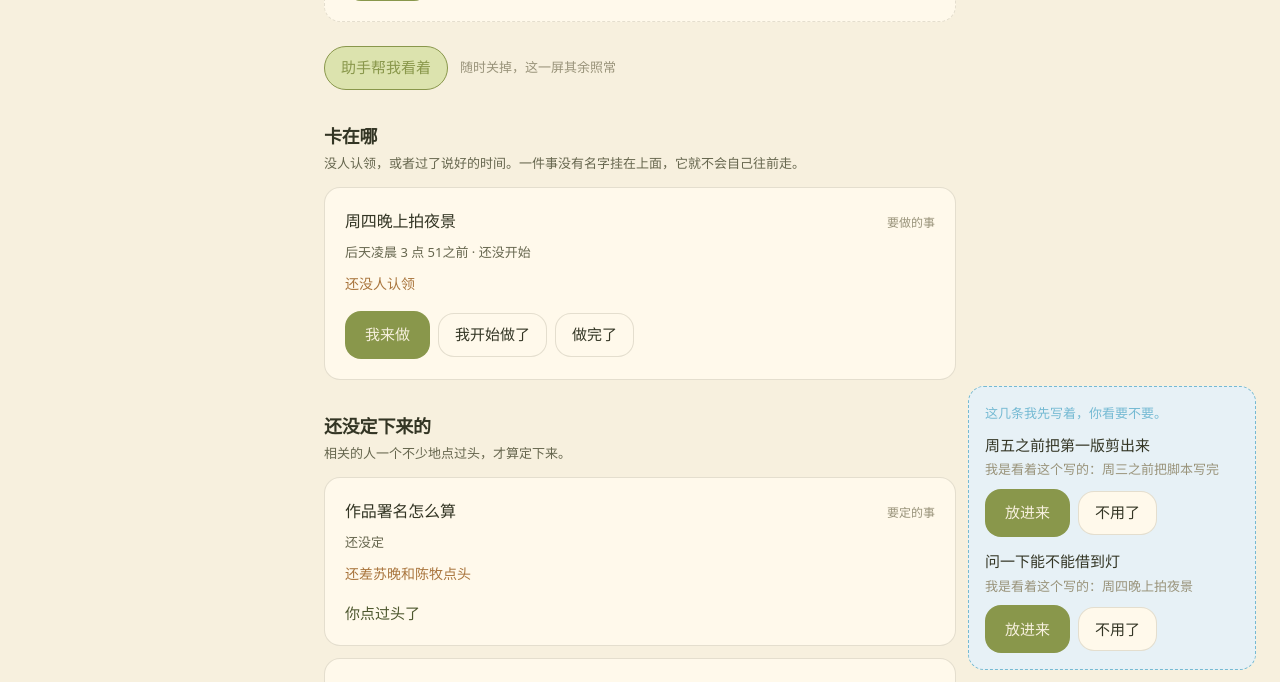
it: 五态 › 错误：一次写入没发出去时，这条还是原样
(page scrolled)
Click the button "我来做": (388,335) [345,311,430,359]
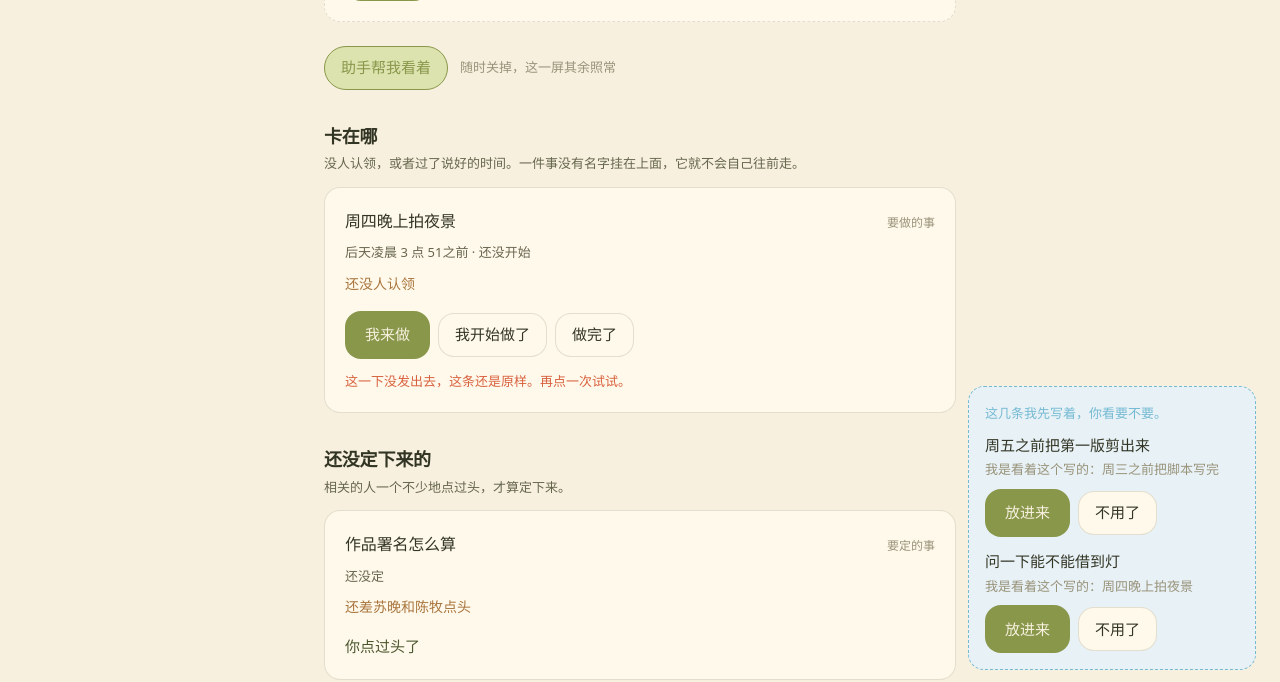
Expected: the message shows "这一下没发出去", [345,372,631,390]
